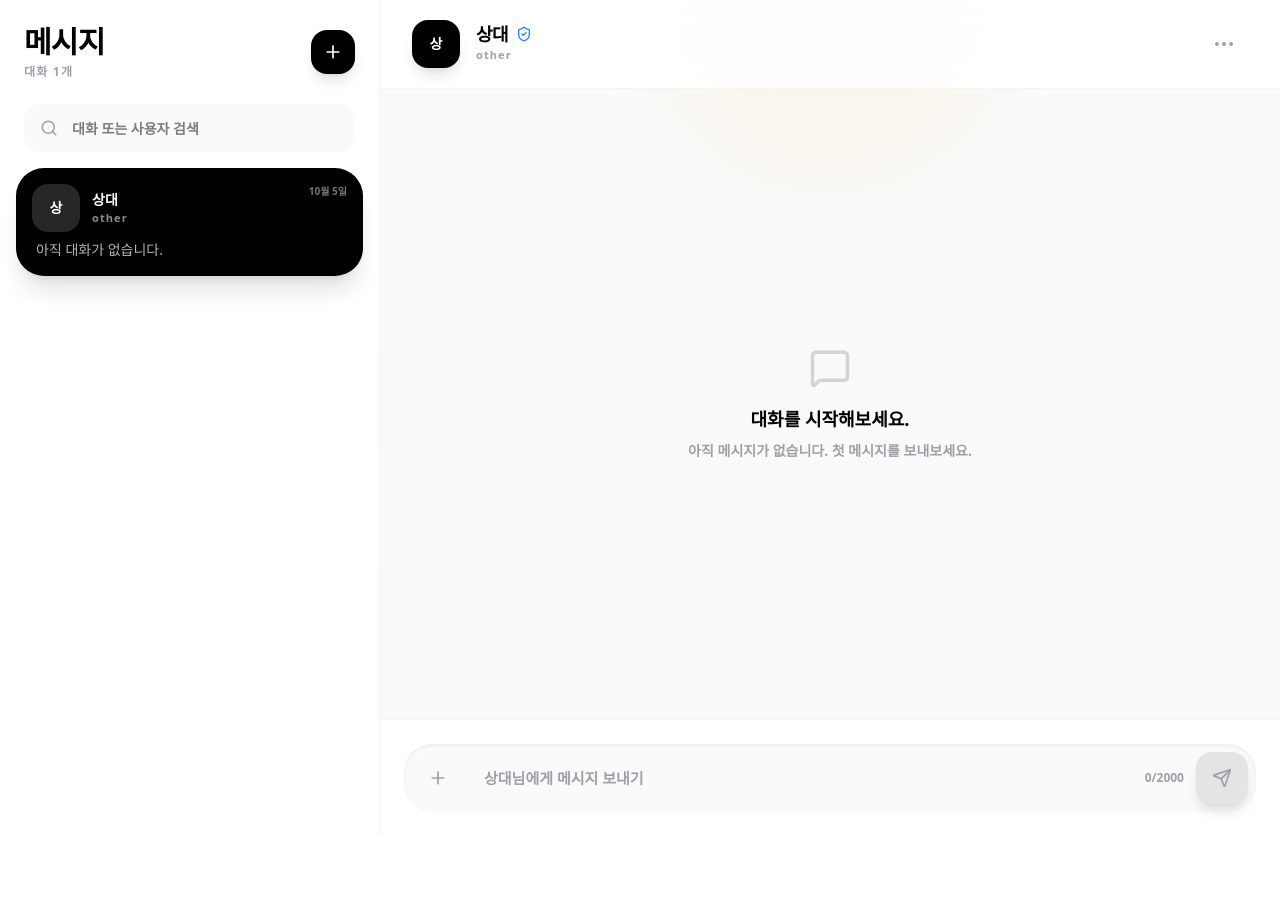
Test case: MessagesPage 낙관적 전송 › SSE로 같은 메시지가 응답보다 먼저 와도 한 번만 표시한다
Type "안녕" into the field with placeholder "상대님에게 메시지 보내기" at (804, 778), box [476,767,1133,789]
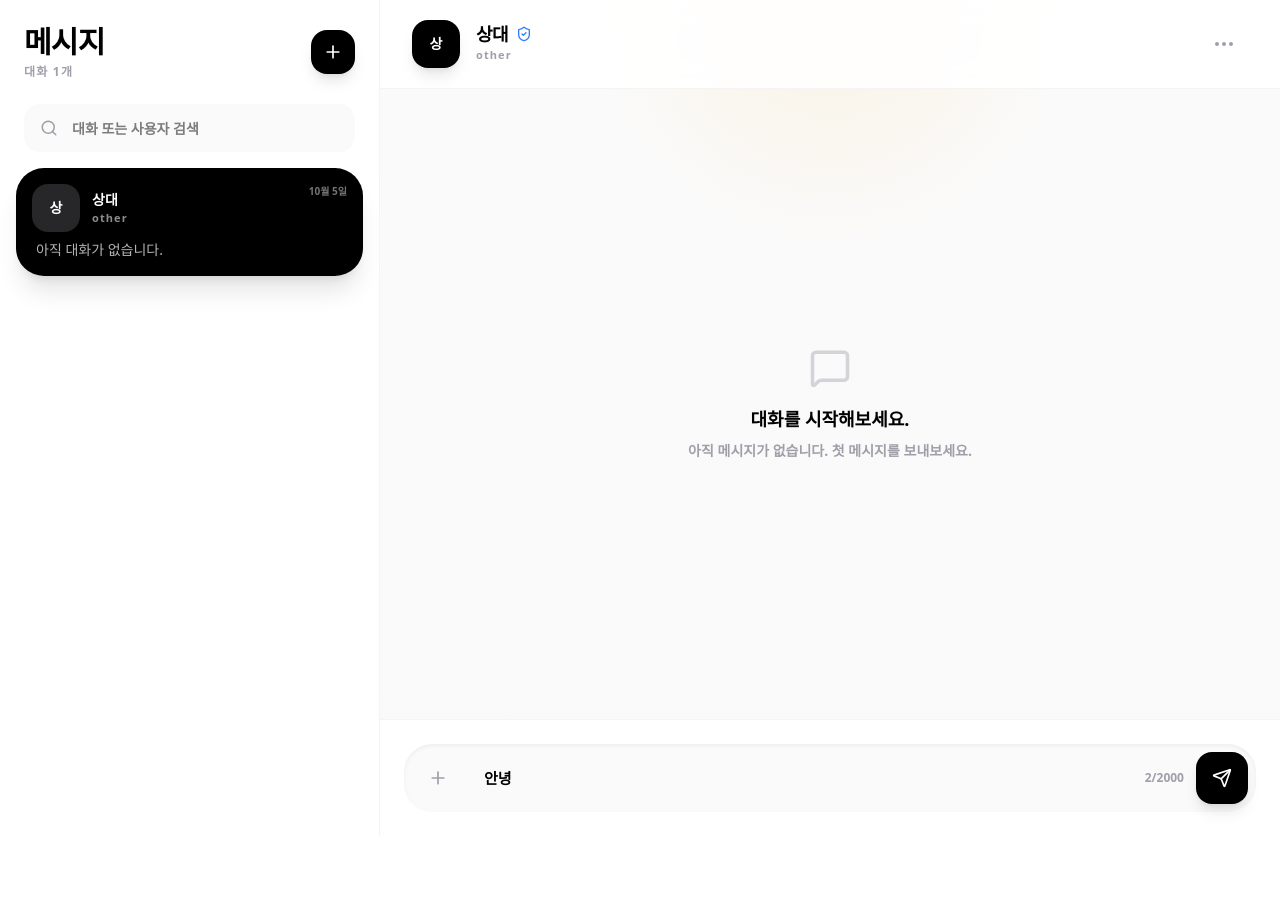
Click the button named "메시지 전송" at (1222, 778), box [1196,752,1248,804]
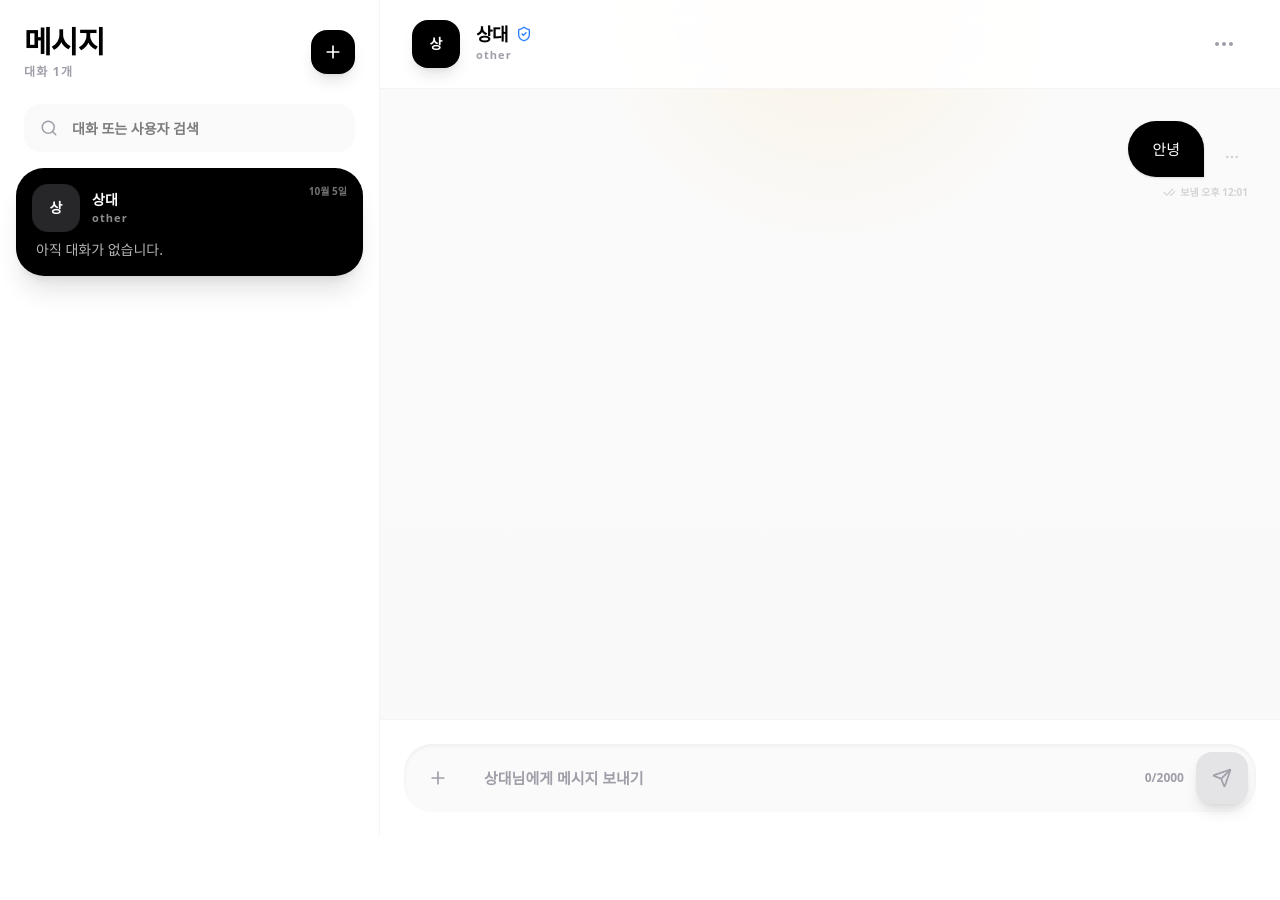
Now the text "안녕" is shown once, box [1152,137,1180,161]
